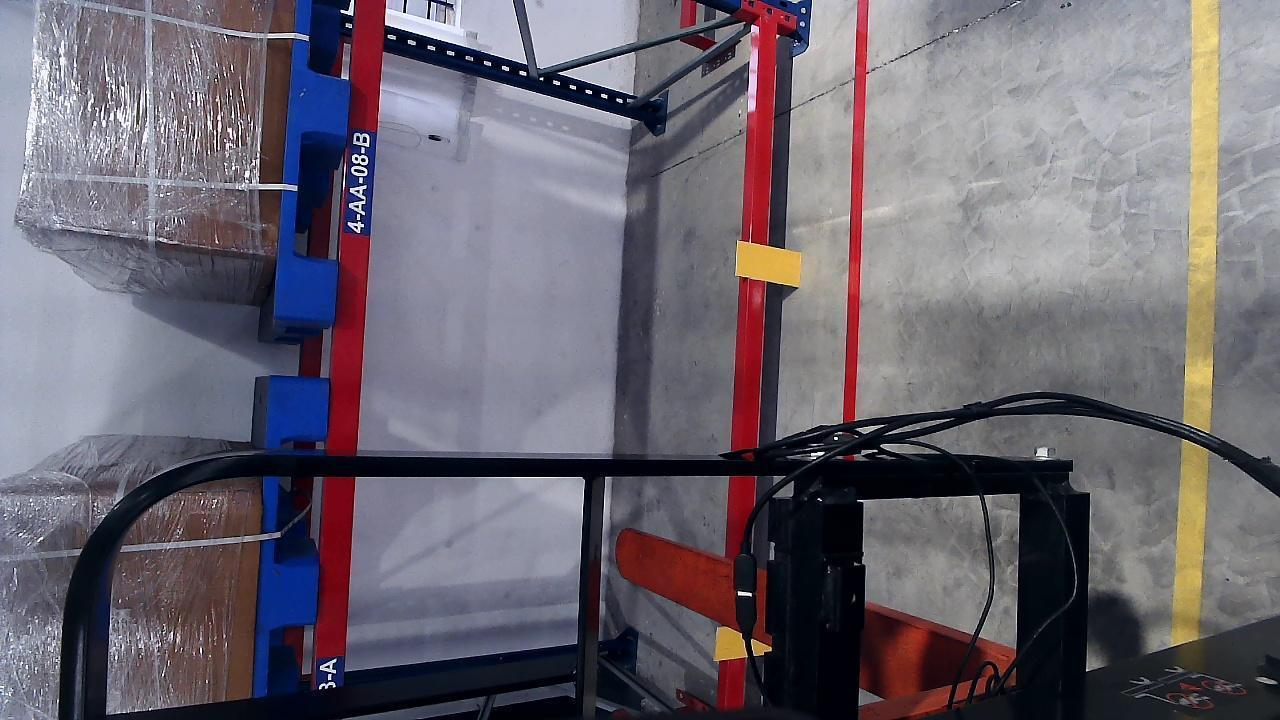red_line: (842, 3, 868, 425)
yellow_line: (1174, 0, 1221, 648)
